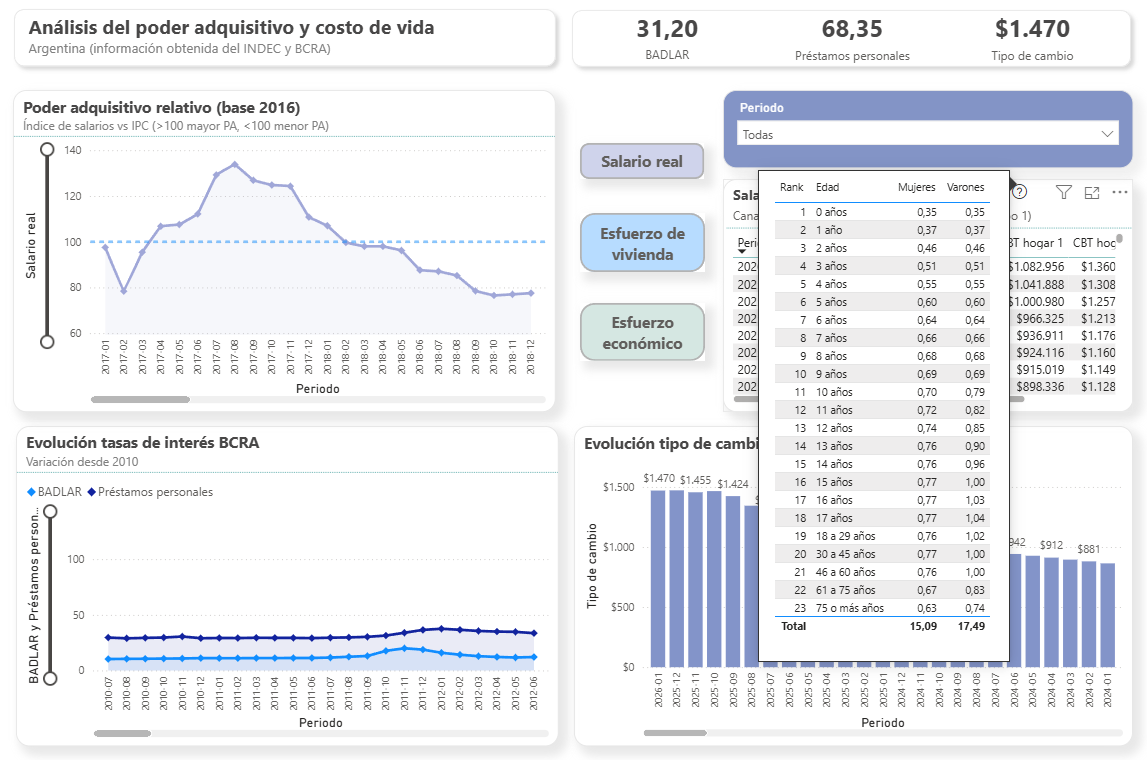

The dashboard page shown, as its layout file describes it:
{"tool":"powerbi","page":{"name":"Análisis","canvas":[1280,850],"ordinal":0},"visuals":[{"type":"group","id":"g1","title":"Grupo 1","box":[9,2,619.9,81.6],"z":0},{"type":"shape","box":[9,2,619.9,81.6],"z":0,"group":"g1"},{"type":"group","id":"g2","title":"Grupo 2","box":[629,3,639,81],"z":1000},{"type":"shape","box":[629,3,639,81],"z":1000,"group":"g2"},{"type":"textbox","box":[29,11,487,62],"z":1000,"group":"g1"},{"type":"clusteredColumnChart","title":"Evolución tipo de cambio BCRA","fields":{"Y":["Tipo de cambio.Tipo de cambio"],"Category":["Calendar table.Periodo"]},"box":[640,474,621,356],"z":2000},{"type":"pivotTable","title":"Salario registrado vs canasta básica","fields":{"Rows":["Calendar table.Periodo"],"Values":["Sum(Ripte.Monto en $)","Sum(Canasta básica.CBAA)","Sum(Canasta básica.CBTA)","Sum(Canasta básica.CBTH1)","Sum(Canasta básica.CBTH2)","Sum(Canasta básica.CBTH3)"]},"box":[805,200,456,259],"z":3000},{"type":"lineChart","title":"Evolución tasas de interés BCRA","fields":{"Category":["Calendar table.Periodo"],"Y":["Tasa BADLAR.BADLAR","Tasa préstamos personales.Préstamos personales"]},"box":[20,474,603,356],"z":4000},{"type":"slicer","fields":{"Values":["Calendar table.Periodo"]},"box":[805,101,456,87],"z":5000},{"type":"card","fields":{"Values":["Tasa BADLAR.BADLAR"]},"box":[653.2,5.5,180.4,71.4],"z":8000,"group":"g2"},{"type":"lineChart","title":"Poder adquisitivo relativo (base 2016)","fields":{"Category":["Calendar table.Periodo"],"Y":["Índice salarios.Salario real"]},"box":[17,101,603,358],"z":8000},{"type":"actionButton","title":"Salario real boton","box":[647,160,138,40],"z":9000},{"type":"card","fields":{"Values":["Tasa préstamos personales.Préstamos personales"]},"box":[858.5,5,180.9,72.1],"z":10000,"group":"g2"},{"type":"actionButton","title":"ICL boton","box":[646.7,237.8,138.9,65.6],"z":10000},{"type":"card","fields":{"Values":["Tipo de cambio.Tipo de cambio"]},"box":[1059.1,5,180.9,72.1],"z":11000,"group":"g2"},{"type":"actionButton","title":"Indices 2016 boton","box":[646.7,337.8,138.9,64.4],"z":11000}]}

Visuals, with their boxes in screenshot pixels (x1, y1, x2, y2), scaled from the page's 1280x850 canvas onto the 1147x760 screenshot:
"Grupo 1" group: <region>8, 2, 564, 75</region>
shape: <region>8, 2, 564, 75</region>
"Grupo 2" group: <region>564, 3, 1136, 75</region>
shape: <region>564, 3, 1136, 75</region>
textbox: <region>26, 10, 462, 65</region>
"Evolución tipo de cambio BCRA" clusteredColumnChart: <region>574, 424, 1130, 742</region>
"Salario registrado vs canasta básica" pivotTable: <region>721, 179, 1130, 410</region>
"Evolución tasas de interés BCRA" lineChart: <region>18, 424, 558, 742</region>
slicer - Calendar table.Periodo: <region>721, 90, 1130, 168</region>
card - Tasa BADLAR.BADLAR: <region>585, 5, 747, 69</region>
"Poder adquisitivo relativo (base 2016)" lineChart: <region>15, 90, 556, 410</region>
"Salario real boton" actionButton: <region>580, 143, 703, 179</region>
card - Tasa préstamos personales.Préstamos personales: <region>769, 4, 931, 69</region>
"ICL boton" actionButton: <region>580, 213, 704, 271</region>
card - Tipo de cambio.Tipo de cambio: <region>949, 4, 1111, 69</region>
"Indices 2016 boton" actionButton: <region>580, 302, 704, 360</region>
